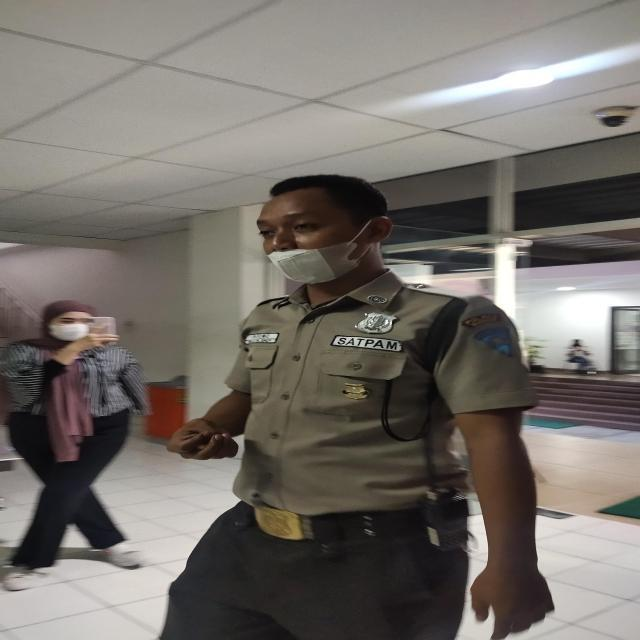hairnet: (255, 173, 394, 285)
